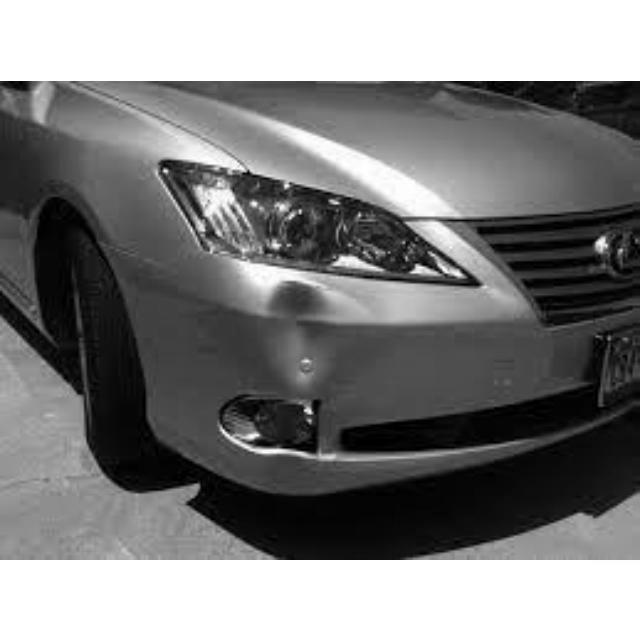front-bumper-dent: (95, 261, 596, 485)
